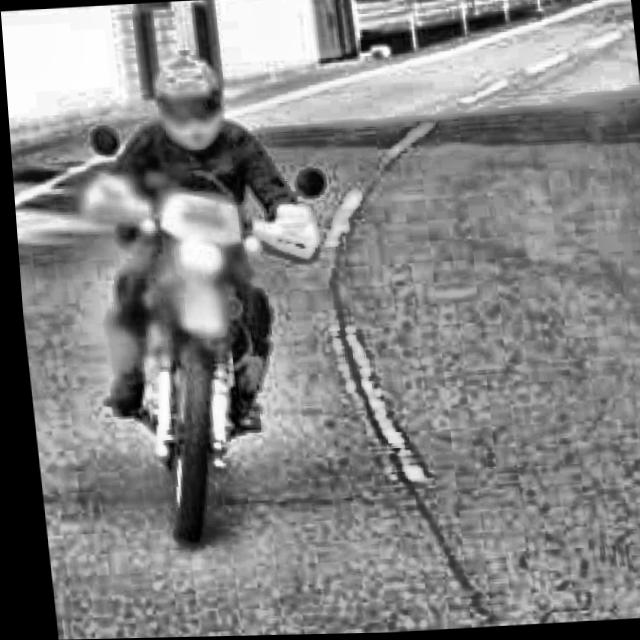motorcycle: (63, 106, 358, 560)
